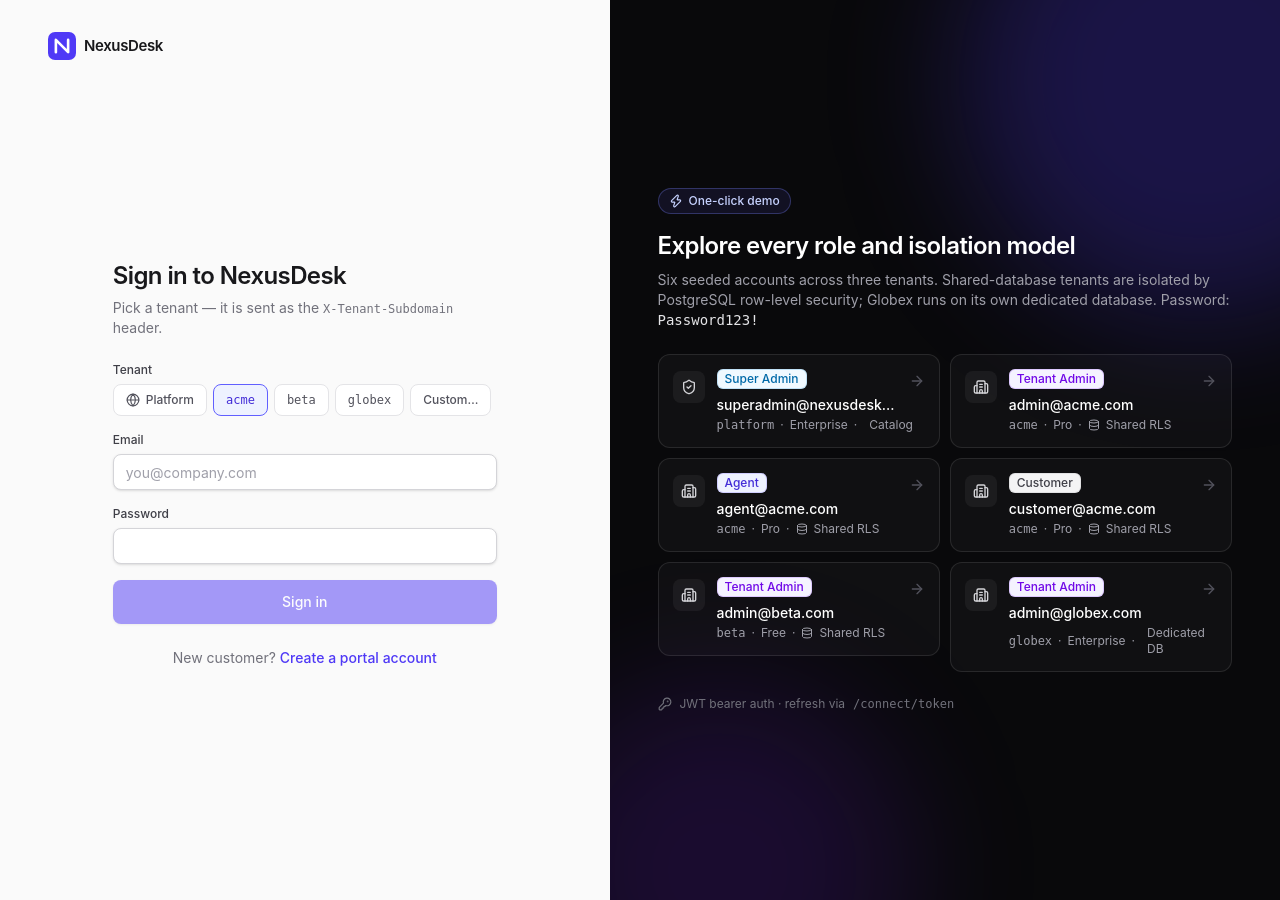
Login flow › signs a tenant admin in with the selected tenant header and redirects to /dashboard
Click the radio button labelled "acme".
click(240, 400)  # box [213, 384, 268, 416]
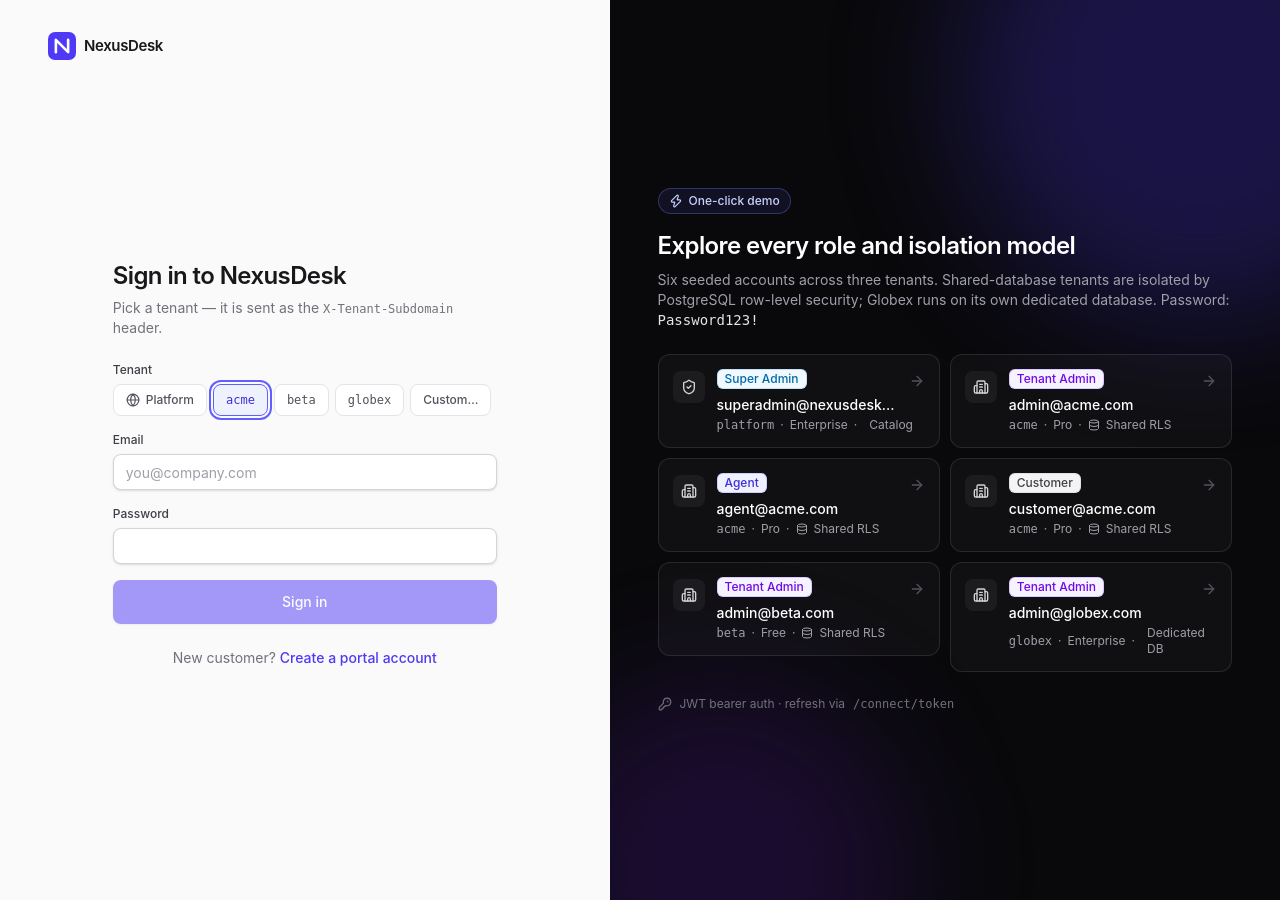
Type "admin@acme.com" into the field labelled "Email".
click(305, 472); type("admin@acme.com")  # box [113, 454, 497, 490]
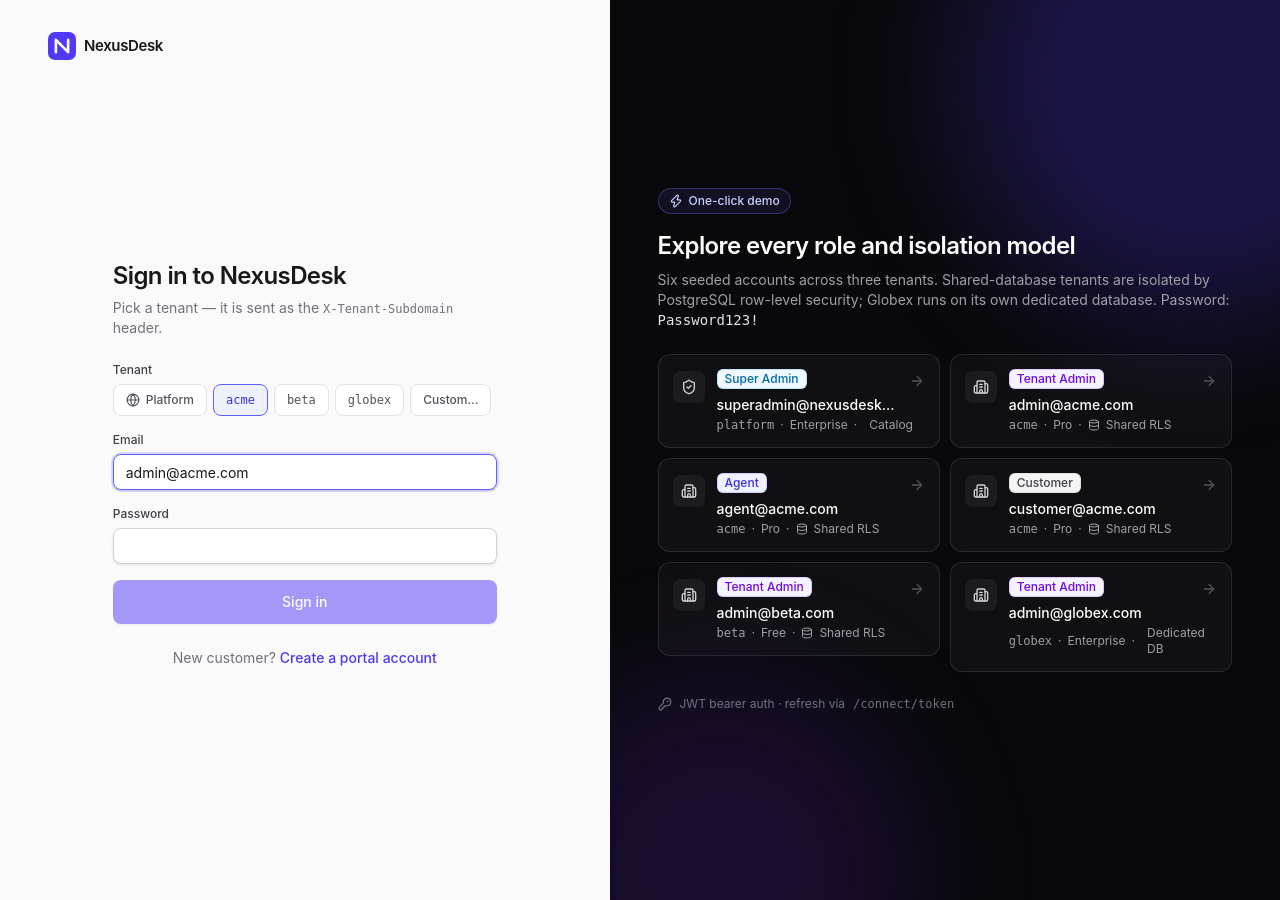
Type "Password123!" into the password field labelled "Password".
click(305, 546); type("Password123!")  # box [113, 528, 497, 564]
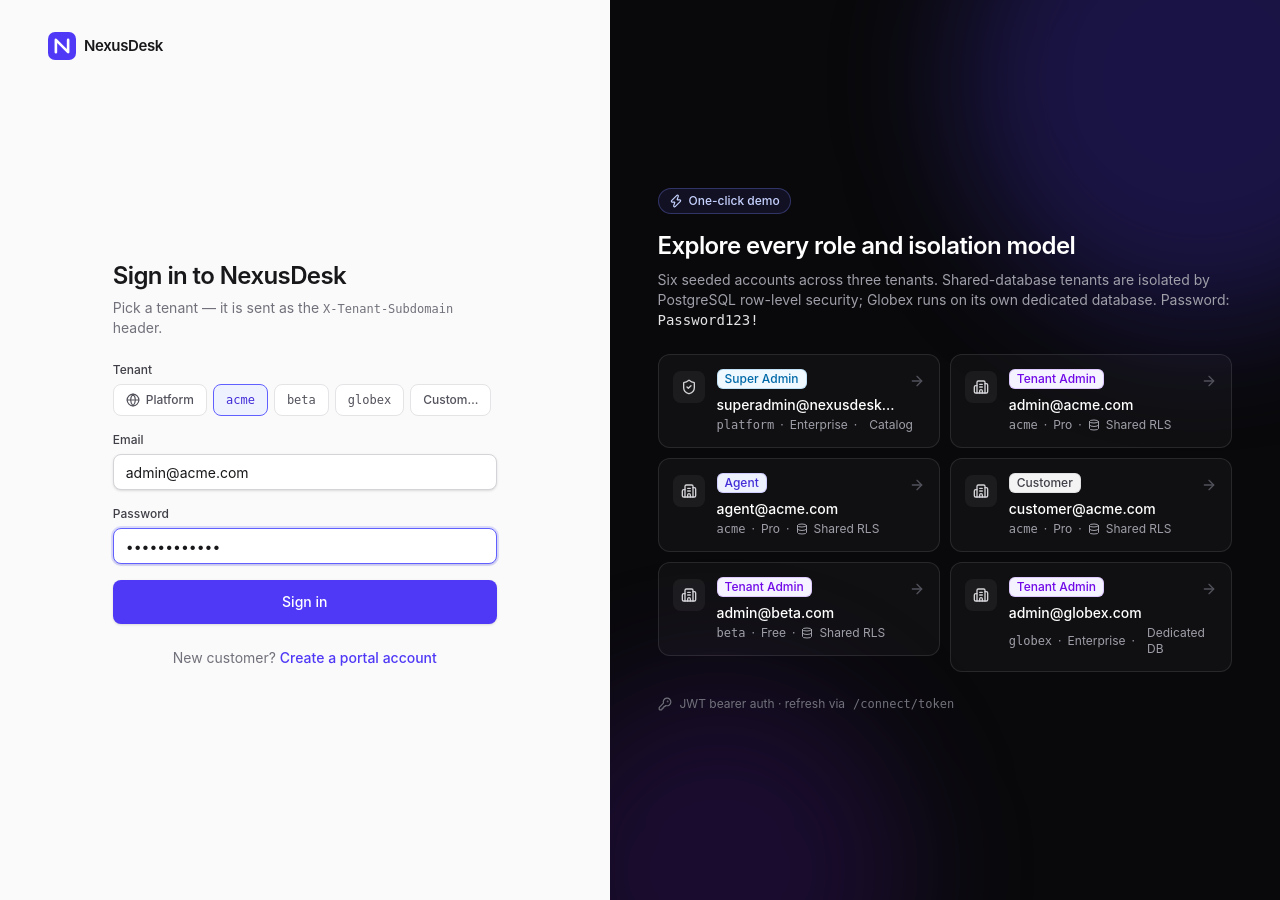
Click the button "Sign in".
click(305, 602)  # box [113, 580, 497, 624]
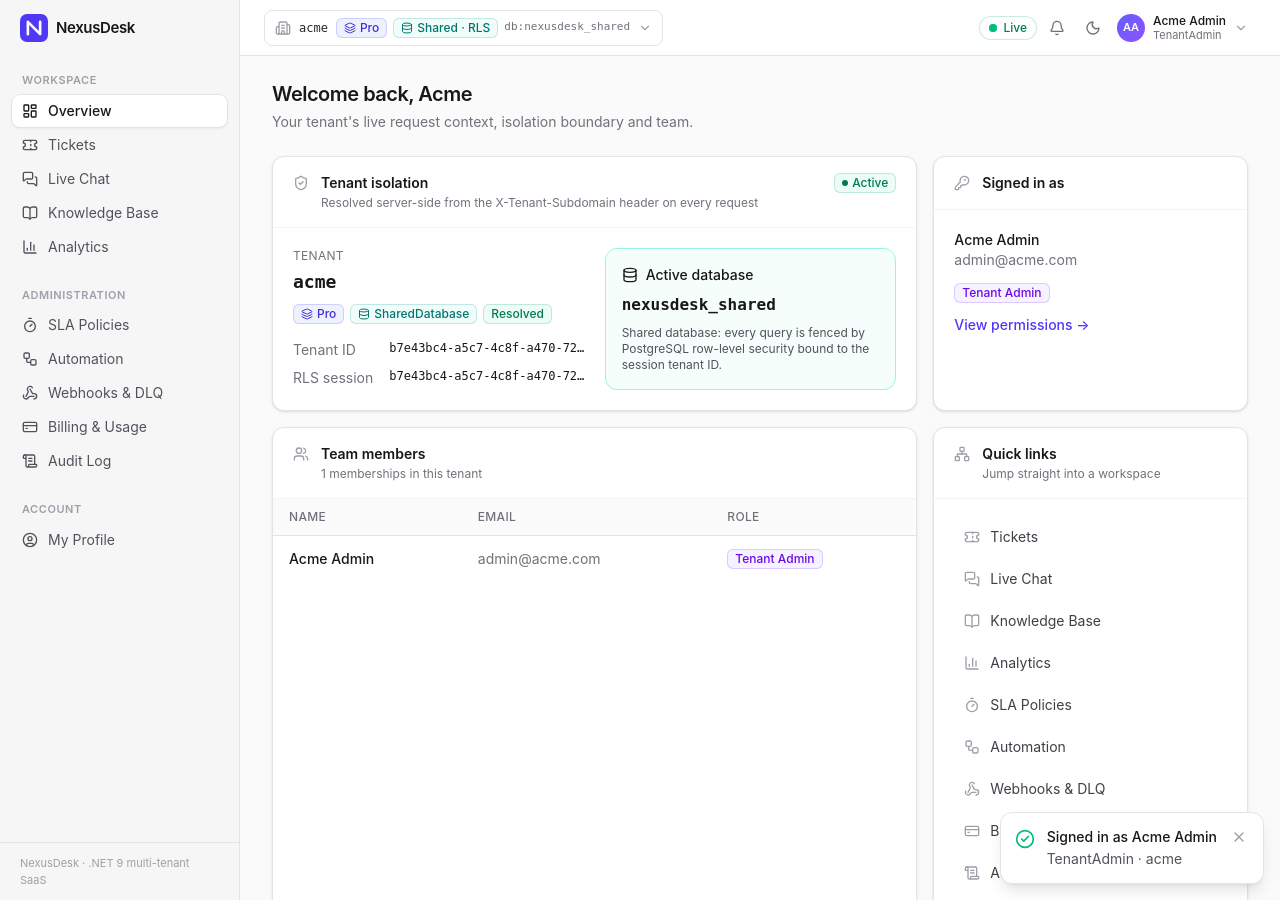
Check: the 1st text "acme" is shown, box [299, 20, 328, 36]
Check: the text "db:nexusdesk_shared" is shown, box [504, 19, 630, 36]
